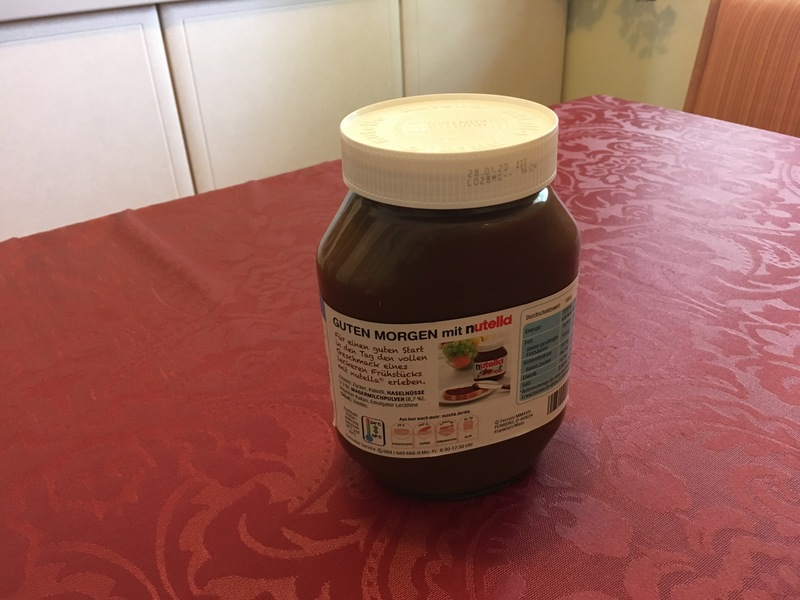nutella: (315, 92, 580, 498)
